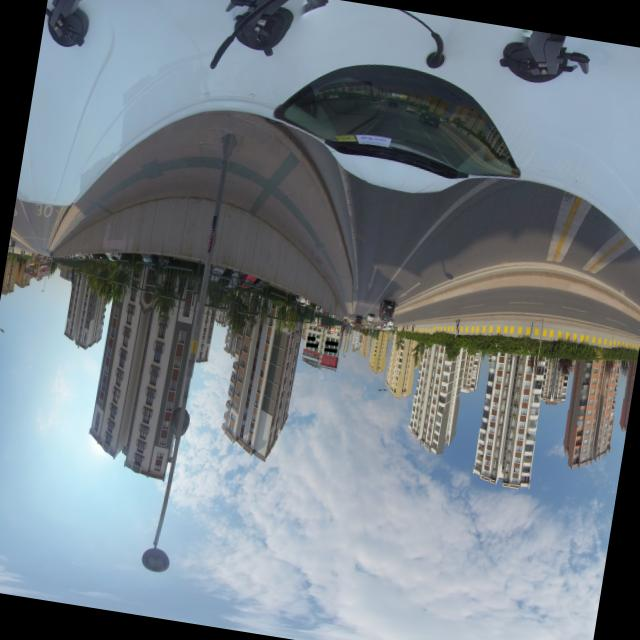SignStore: (324, 339, 338, 345), (323, 346, 336, 352), (305, 341, 317, 347), (306, 335, 315, 340)
